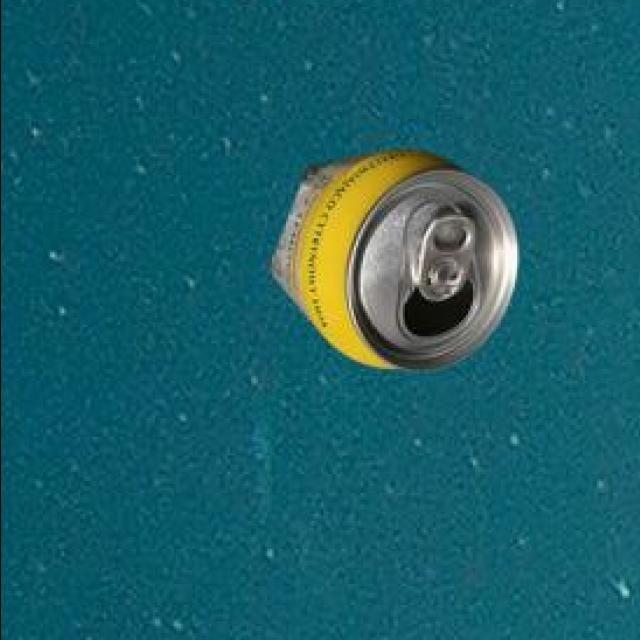logam: (272, 146, 520, 368)
